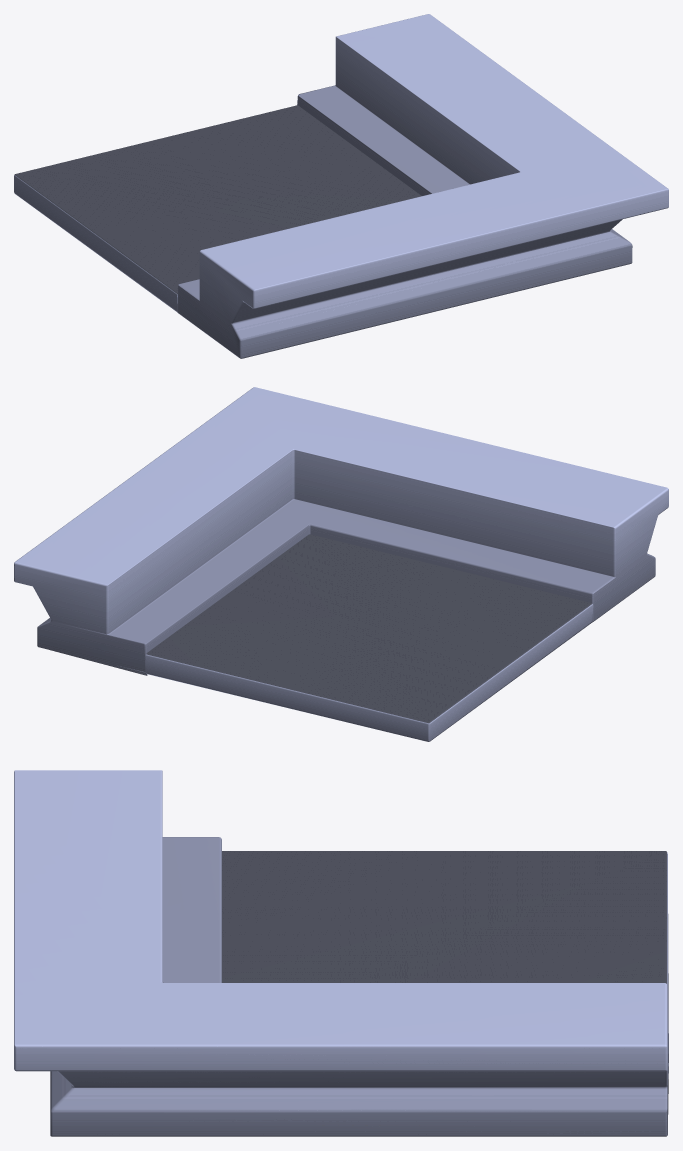
Rendered from roof-flat-corner.glb.
The picture shows the model from 3 angles, top to bottom: view 1: azimuth 30°, elevation 25°; view 2: azimuth 150°, elevation 25°; view 3: azimuth 270°, elevation 25°; orthographic projection. The views are drawn at different scales.
Visible parts, largest first — view 1: roof-flat-corner; view 2: roof-flat-corner; view 3: roof-flat-corner.
Part boxes in pixels (box(x1,y1,x2,y2)): roof-flat-corner: box(14, 14, 668, 358); roof-flat-corner: box(14, 387, 668, 741); roof-flat-corner: box(14, 770, 668, 1136).
Bounding box in the file's own units: 2.2 × 0.4088 × 2.2.
1 material, 1 textured.
